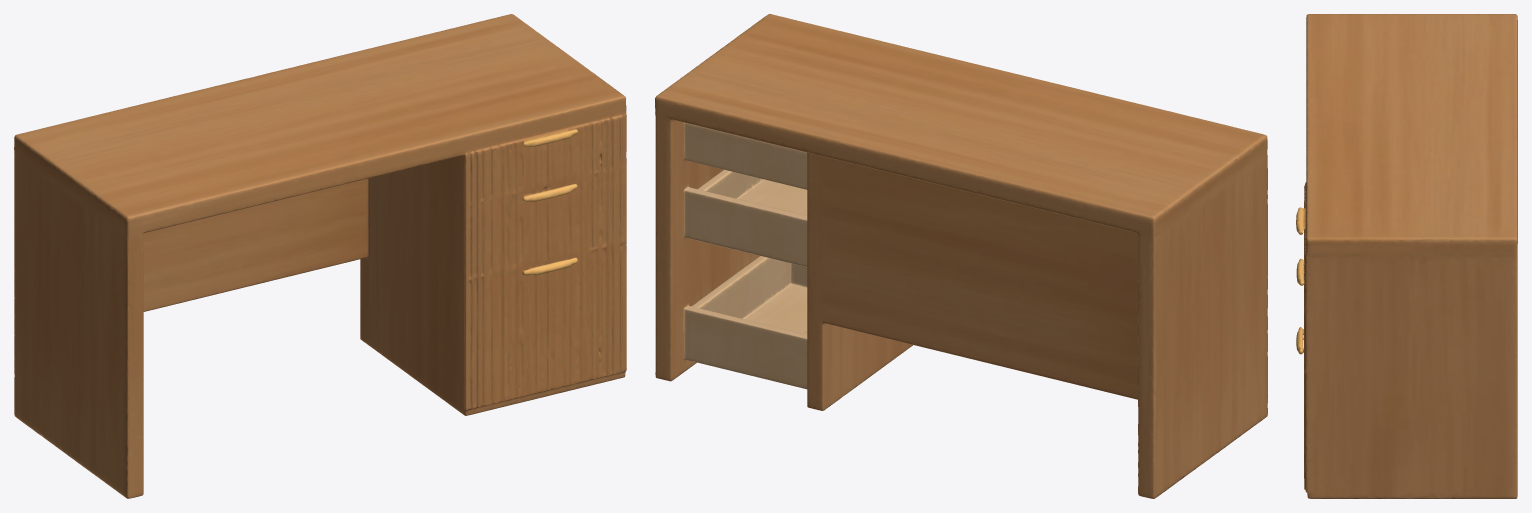
File: Table.glb
The picture shows the model from 3 angles, left to right: view 1: azimuth 30°, elevation 25°; view 2: azimuth 150°, elevation 25°; view 3: azimuth 270°, elevation 25°; orthographic projection. The views are drawn at different scales.
Parts seen in each view (by area): view 1: world; view 2: world; view 3: world.
Part boxes in pixels (x1,y1,x2,y2): world: [14, 14, 626, 498]; world: [655, 14, 1267, 498]; world: [1296, 14, 1517, 498].
Size of the model in its own units: 1 by 0.5415 by 0.4169.
1 material, 1 textured.
